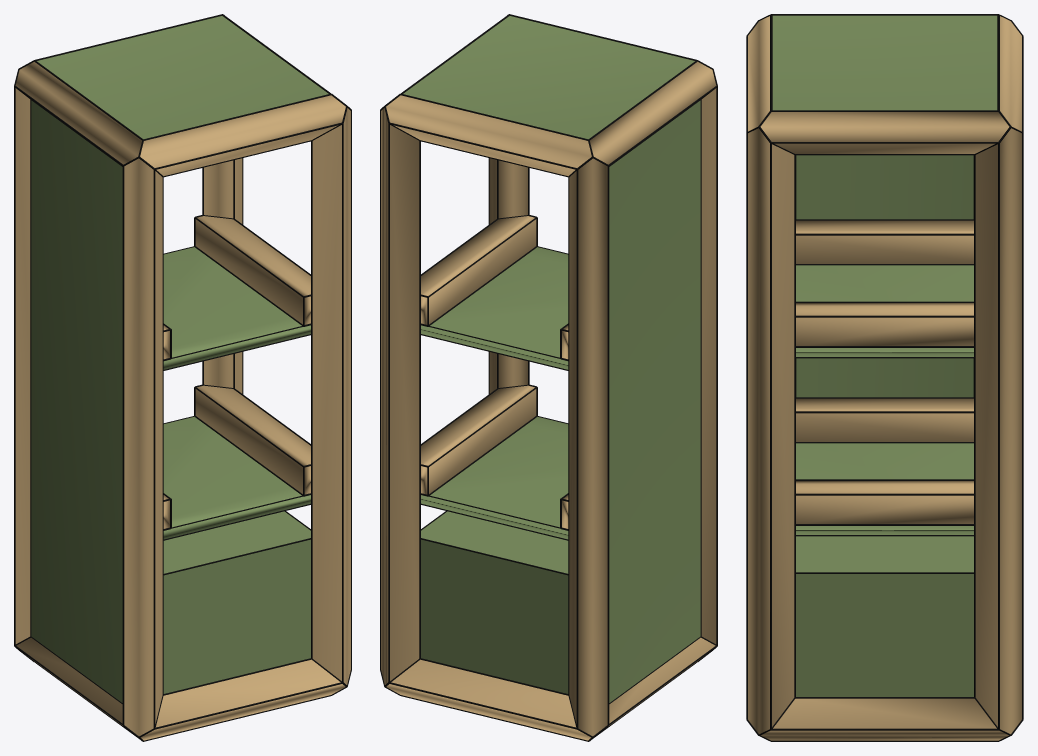
The model's file is servante-petite.glb.
The picture shows the model from 3 angles, left to right: view 1: azimuth 30°, elevation 25°; view 2: azimuth 150°, elevation 25°; view 3: azimuth 270°, elevation 25°; orthographic projection. The views are drawn at different scales.
Parts seen in each view (by area): view 1: panneau-joue1, mod-drawer-0, arete-Z0, arete-Z1, panneau-dessus_exterieur, tablette-plate-mod-0, tablette-plate-mod-1, arete-Z2, arete-X2, arete-X0, tablette-traverse-right-mod-1, tablette-traverse-right-mod-0 (+15 smaller); view 2: panneau-joue1, mod-drawer-0, arete-Z2, arete-Z3, panneau-dessus_exterieur, tablette-plate-mod-0, tablette-plate-mod-1, arete-Z0, arete-X3, arete-X1, tablette-traverse-right-mod-1, tablette-traverse-right-mod-0 (+15 smaller); view 3: mod-drawer-0, arete-Z1, arete-Z3, panneau-dessus_exterieur, panneau-joue1, arete-Y3, arete-Y1, tablette-plate-mod-0, tablette-plate-mod-1, tablette-traverse-left-mod-0, tablette-traverse-left-mod-1, tablette-traverse-right-mod-0 (+14 smaller).
Part boxes in pixels (x1=…): panneau-joue1: x1=31, y1=100, x2=122, y2=702; mod-drawer-0: x1=163, y1=511, x2=310, y2=693; arete-Z0: x1=124, y1=158, x2=162, y2=736; arete-Z1: x1=312, y1=108, x2=350, y2=684; panneau-dessus_exterieur: x1=37, y1=16, x2=328, y2=139; tablette-plate-mod-0: x1=163, y1=416, x2=310, y2=539; tablette-plate-mod-1: x1=163, y1=247, x2=310, y2=369; arete-Z2: x1=15, y1=88, x2=30, y2=643; arete-X2: x1=140, y1=95, x2=345, y2=176; arete-X0: x1=140, y1=659, x2=345, y2=740; tablette-traverse-right-mod-1: x1=195, y1=216, x2=310, y2=324; tablette-traverse-right-mod-0: x1=195, y1=385, x2=310, y2=494; panneau-joue1: x1=609, y1=100, x2=700, y2=702; mod-drawer-0: x1=421, y1=511, x2=568, y2=693; arete-Z2: x1=569, y1=158, x2=607, y2=736; arete-Z3: x1=381, y1=108, x2=419, y2=684; panneau-dessus_exterieur: x1=403, y1=16, x2=694, y2=139; tablette-plate-mod-0: x1=421, y1=416, x2=568, y2=539; tablette-plate-mod-1: x1=421, y1=247, x2=568, y2=369; arete-Z0: x1=701, y1=88, x2=716, y2=643; arete-X3: x1=386, y1=95, x2=591, y2=176; arete-X1: x1=386, y1=659, x2=591, y2=740; tablette-traverse-right-mod-1: x1=421, y1=216, x2=536, y2=324; tablette-traverse-right-mod-0: x1=421, y1=385, x2=536, y2=494; mod-drawer-0: x1=796, y1=536, x2=973, y2=696; arete-Z1: x1=748, y1=128, x2=794, y2=734; arete-Z3: x1=975, y1=128, x2=1021, y2=734; panneau-dessus_exterieur: x1=772, y1=15, x2=997, y2=110; panneau-joue1: x1=796, y1=155, x2=973, y2=397; arete-Y3: x1=760, y1=112, x2=1009, y2=153; arete-Y1: x1=761, y1=698, x2=1008, y2=740; tablette-plate-mod-0: x1=796, y1=443, x2=973, y2=534; tablette-plate-mod-1: x1=796, y1=265, x2=973, y2=356; tablette-traverse-left-mod-0: x1=796, y1=398, x2=973, y2=441; tablette-traverse-left-mod-1: x1=796, y1=220, x2=973, y2=263; tablette-traverse-right-mod-0: x1=796, y1=481, x2=973, y2=523.
Size of the model in its own units: 0.3309 by 0.8309 by 0.3309.
